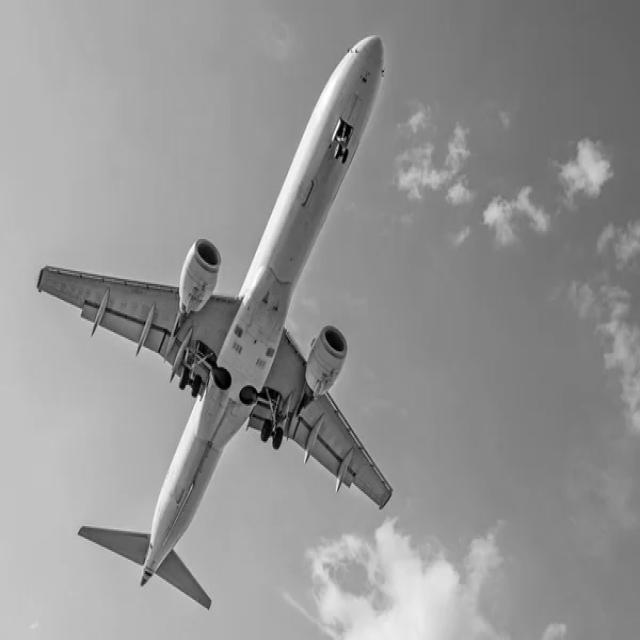Aircraft: (34, 31, 395, 613)
